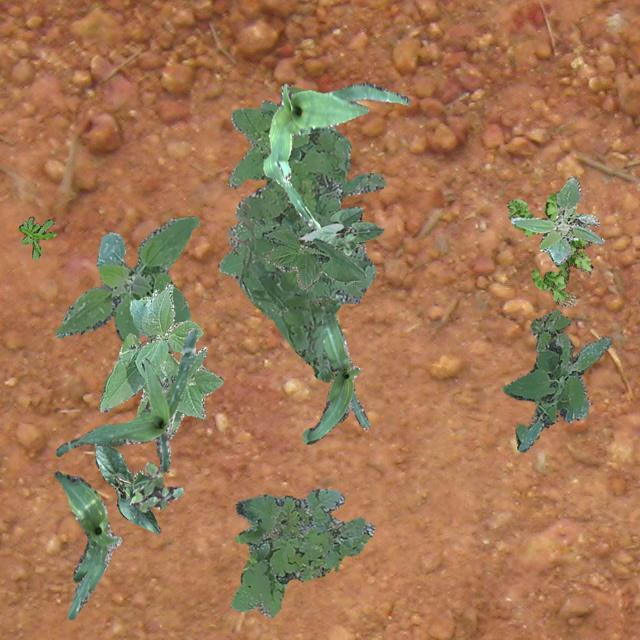crop: (262, 80, 410, 230), (54, 326, 196, 472), (99, 282, 222, 440), (54, 469, 120, 618), (302, 312, 369, 442), (264, 228, 366, 290), (94, 443, 160, 532), (298, 206, 382, 254), (118, 332, 148, 414)
weed: (217, 84, 386, 380), (230, 488, 374, 616), (54, 215, 198, 342), (502, 308, 610, 452), (506, 192, 592, 306), (510, 174, 602, 264), (128, 461, 182, 512), (18, 216, 56, 258)
